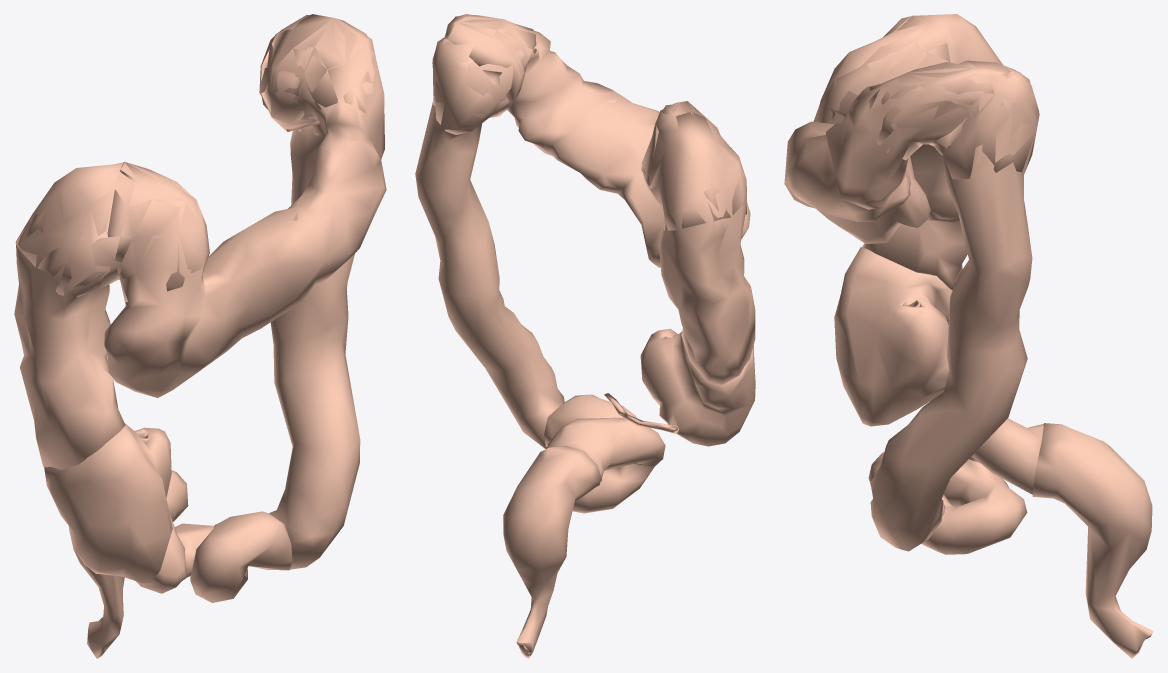
Rendered from sbu_m_intestine_large-20.fbx.
3 renders of one model, left to right at view 1: azimuth 30°, elevation 25°; view 2: azimuth 150°, elevation 25°; view 3: azimuth 270°, elevation 25°, orthographic. The views are drawn at different scales.
Visible parts, largest first — view 1: VH_M_transverse_colon, VH_M_ascending_colon, VH_M_descending_colon, VH_M_caecum, VH_M_sigmoid_colon, VH_M_hepatic_flexure_of_colon, VH_M_splenic_flexure_of_colon, VH_M_rectum; view 2: VH_M_descending_colon, VH_M_transverse_colon, VH_M_ascending_colon, VH_M_rectum, VH_M_caecum, VH_M_sigmoid_colon, VH_M_splenic_flexure_of_colon, VH_M_hepatic_flexure_of_colon, VH_M_vermiform_appendix; view 3: VH_M_descending_colon, VH_M_transverse_colon, VH_M_caecum, VH_M_rectum, VH_M_sigmoid_colon, VH_M_splenic_flexure_of_colon, VH_M_ascending_colon, VH_M_hepatic_flexure_of_colon.
Boxes of the visible parts, x1,y1,x2,y2 form: VH_M_transverse_colon: (104, 14, 386, 397); VH_M_ascending_colon: (14, 163, 125, 469); VH_M_descending_colon: (261, 14, 360, 569); VH_M_caecum: (44, 423, 172, 582); VH_M_sigmoid_colon: (135, 470, 292, 602); VH_M_hepatic_flexure_of_colon: (15, 162, 209, 302); VH_M_splenic_flexure_of_colon: (259, 15, 384, 135); VH_M_rectum: (73, 548, 124, 658); VH_M_descending_colon: (415, 38, 564, 448); VH_M_transverse_colon: (445, 15, 750, 267); VH_M_ascending_colon: (649, 112, 755, 384); VH_M_rectum: (503, 445, 601, 658); VH_M_caecum: (640, 328, 755, 446); VH_M_sigmoid_colon: (544, 394, 665, 513); VH_M_splenic_flexure_of_colon: (432, 14, 536, 134); VH_M_hepatic_flexure_of_colon: (641, 101, 746, 230); VH_M_vermiform_appendix: (604, 393, 678, 433); VH_M_descending_colon: (870, 73, 1039, 551); VH_M_transverse_colon: (784, 16, 1015, 243); VH_M_caecum: (834, 247, 952, 426); VH_M_rectum: (1032, 423, 1153, 658); VH_M_sigmoid_colon: (868, 418, 1043, 554); VH_M_splenic_flexure_of_colon: (869, 60, 1038, 179); VH_M_ascending_colon: (862, 14, 1002, 290); VH_M_hepatic_flexure_of_colon: (818, 14, 982, 122).
Size of the model in its own units: 25.98 by 45.1 by 22.5.
